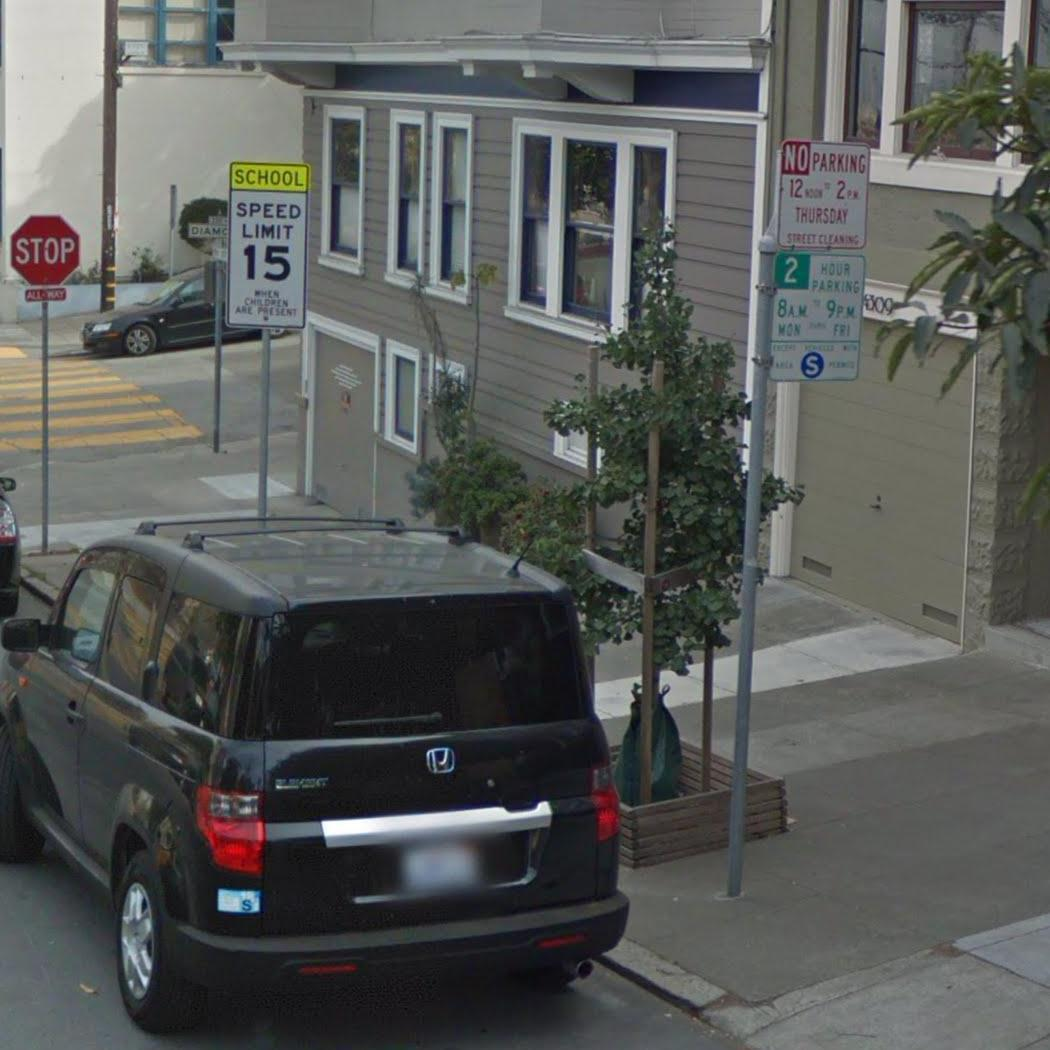2 Hour Parking: (770, 247, 870, 384)
No Parking: (770, 140, 876, 249)
